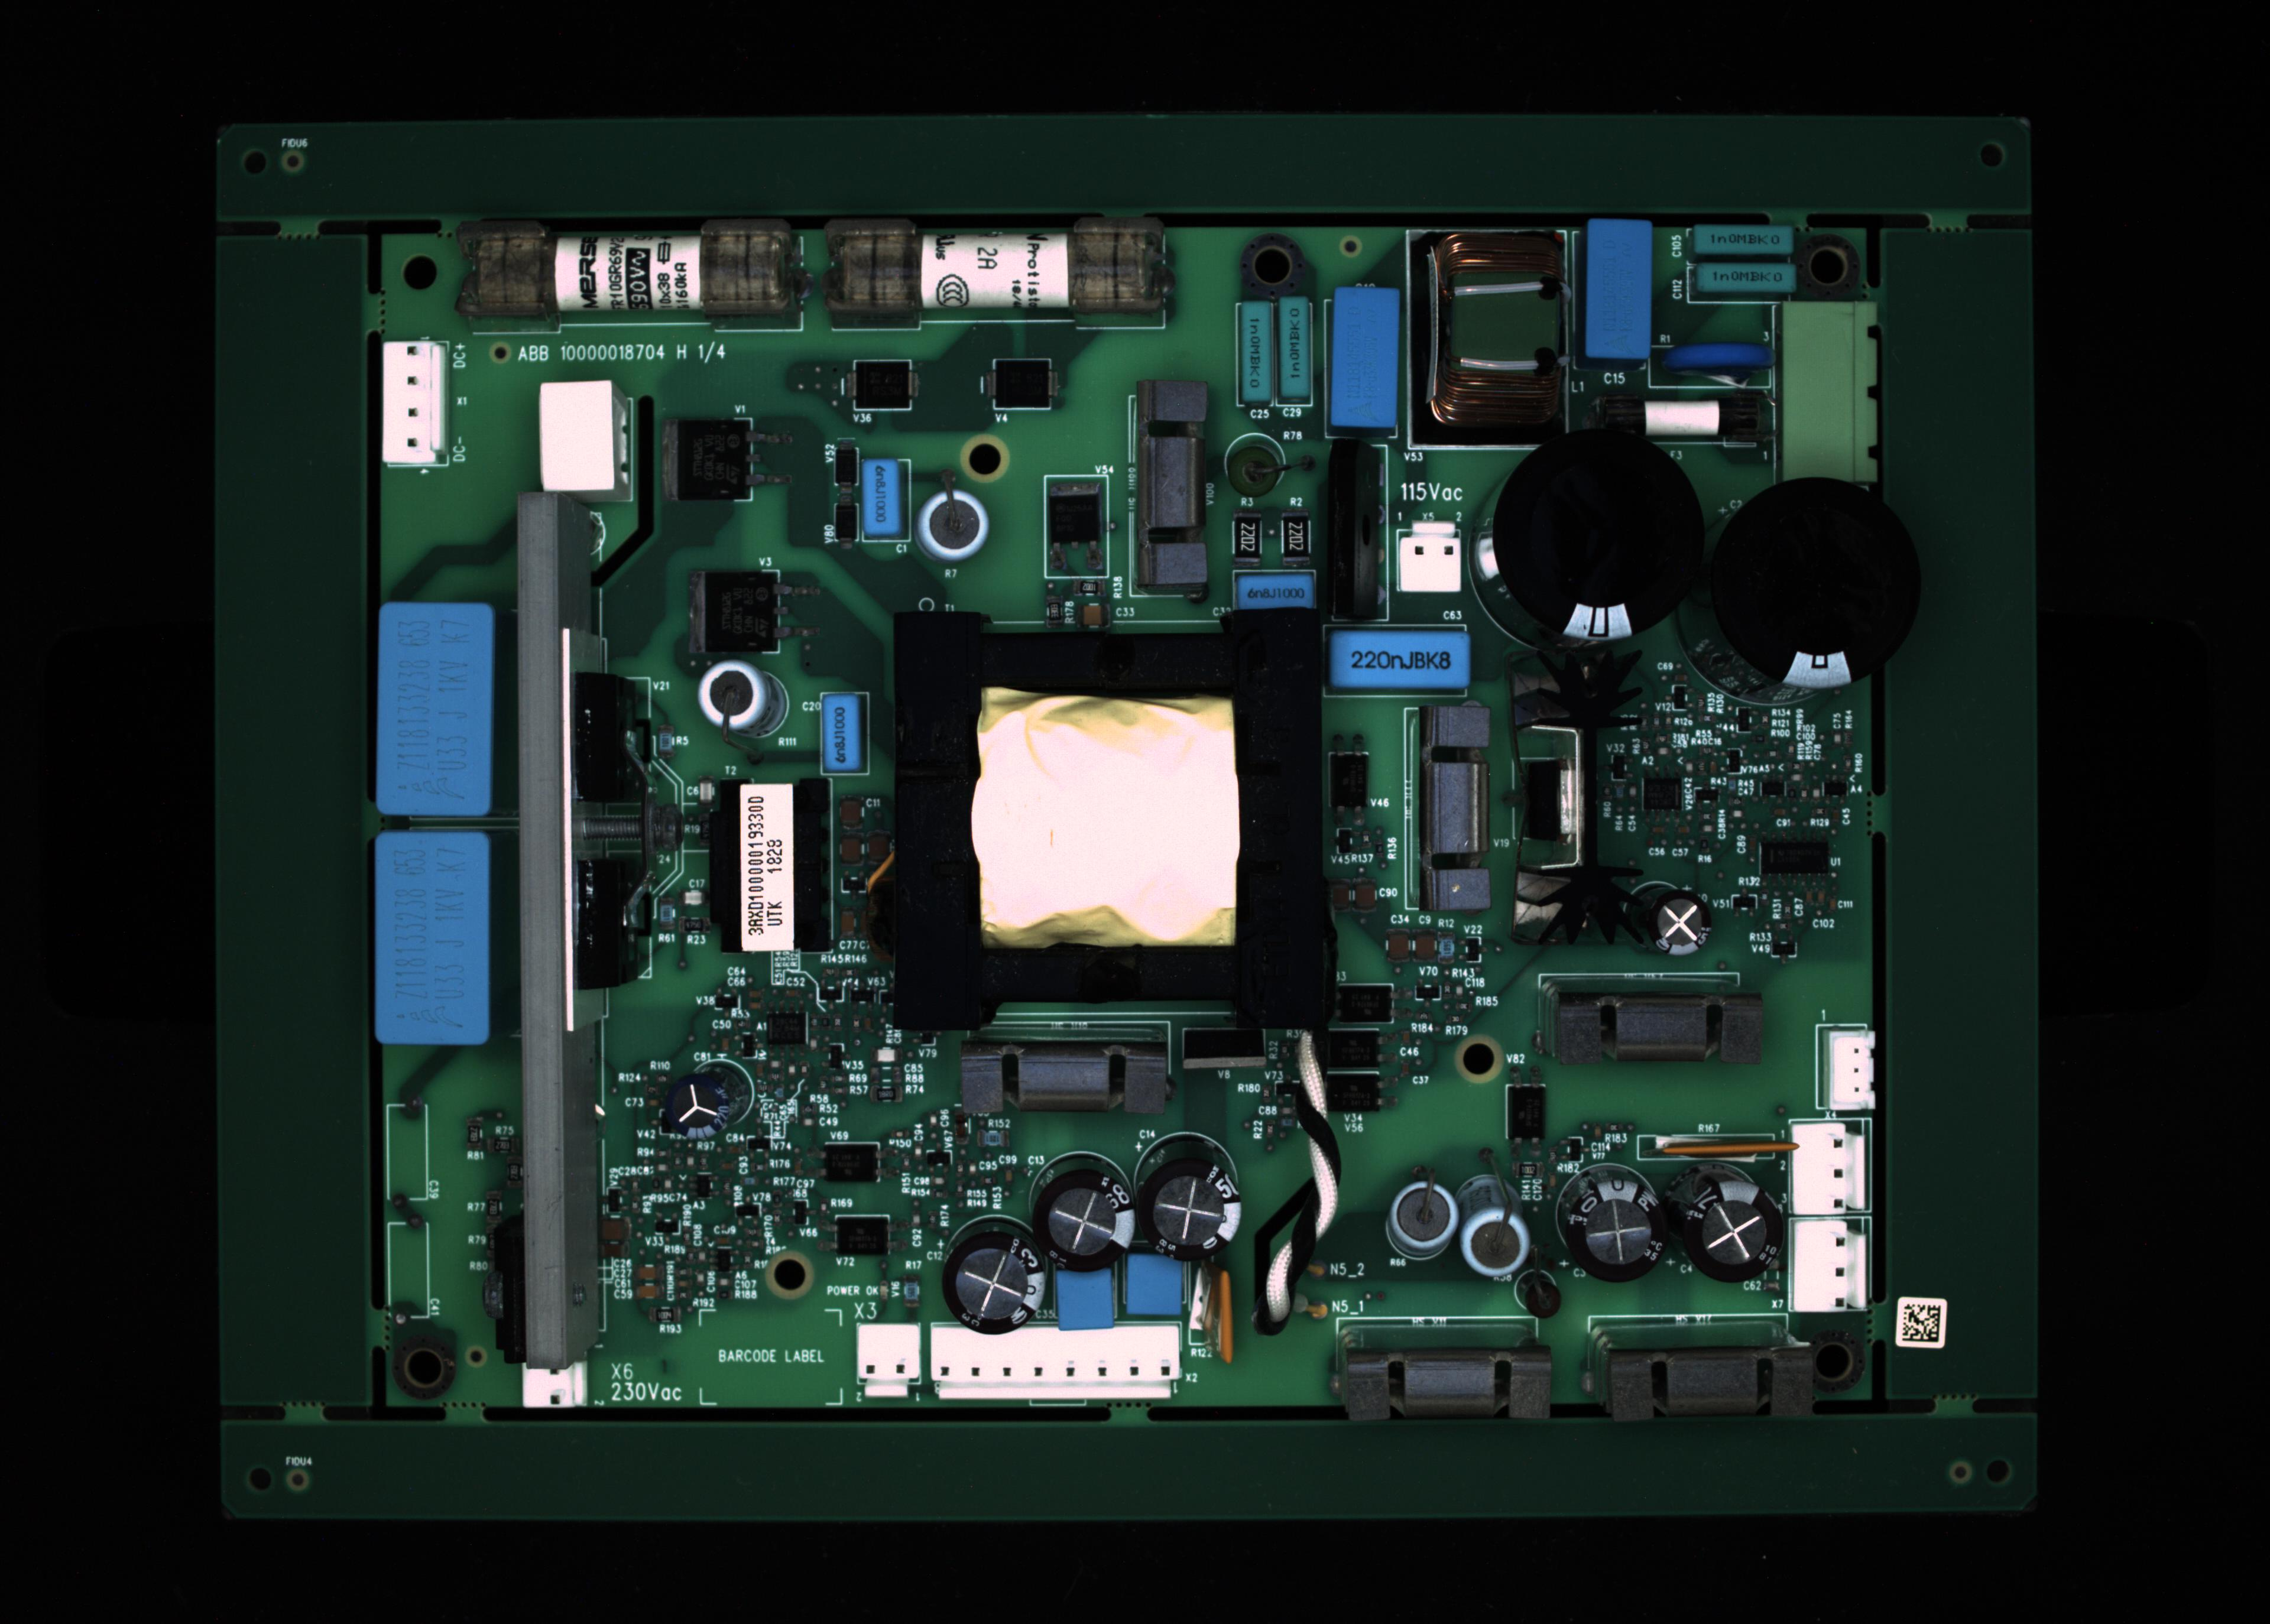10_p: (1648, 346, 1772, 394)
11_q: (1779, 297, 1885, 489)
12_r: (1591, 387, 1776, 455)
13_s: (380, 337, 445, 468)
14_t: (536, 380, 629, 489)
15_e: (856, 459, 902, 536)
16_k: (920, 489, 992, 561)
17_u: (1127, 385, 1204, 596)
18_v: (1234, 569, 1313, 606)
19_w: (1328, 631, 1473, 689)
1_a: (455, 216, 807, 336)
20_f: (1393, 517, 1470, 599)
21_g: (1491, 429, 1709, 640)
22_g: (1714, 482, 1924, 685)
23_h: (376, 603, 494, 816)
24_h: (373, 831, 491, 1046)
25_f: (520, 1360, 591, 1408)
26_f: (858, 1323, 927, 1401)
27_x: (925, 1323, 1185, 1410)
28_i: (1138, 1160, 1240, 1257)
29_i: (1027, 1171, 1127, 1274)
2_a: (819, 220, 1168, 330)
30_i: (941, 1227, 1055, 1339)
31_j: (1050, 1267, 1120, 1339)
32_j: (1115, 1237, 1197, 1329)
33_e: (821, 692, 862, 780)
34_k: (1373, 1181, 1465, 1281)
35_k: (1456, 1178, 1542, 1271)
36_i: (1563, 1178, 1672, 1285)
37_i: (1679, 1181, 1785, 1288)
38_l: (1331, 1343, 1554, 1424)
39_l: (1581, 1345, 1818, 1418)
3_b: (1238, 297, 1270, 404)
40_l: (1539, 986, 1762, 1069)
41_y: (1407, 701, 1491, 919)
42_z: (1827, 1028, 1878, 1114)
43_m: (1792, 1120, 1874, 1216)
44_m: (1788, 1220, 1873, 1311)
45_i: (668, 1067, 733, 1142)
46_n: (1338, 982, 1412, 1028)
47_n: (811, 1142, 899, 1192)
48_n: (825, 1214, 902, 1260)
49_aa: (761, 1011, 814, 1056)
4_b: (1280, 299, 1317, 410)
50_n: (1321, 1030, 1391, 1070)
51_n: (1324, 1070, 1396, 1114)
52_ab: (1329, 740, 1377, 831)
53_ac: (1656, 1130, 1790, 1165)
54_ad: (1194, 1253, 1222, 1364)
55_l: (957, 1039, 1175, 1118)
56_ae: (1182, 1023, 1262, 1067)
57_af: (1509, 647, 1635, 951)
58_i: (1630, 884, 1706, 958)
59_o: (981, 359, 1067, 417)
5_c: (1329, 286, 1400, 429)
60_o: (840, 357, 923, 420)
6_ag: (1405, 232, 1572, 452)
7_c: (1582, 218, 1649, 357)
8_d: (1693, 227, 1792, 253)
9_d: (1699, 262, 1793, 292)
